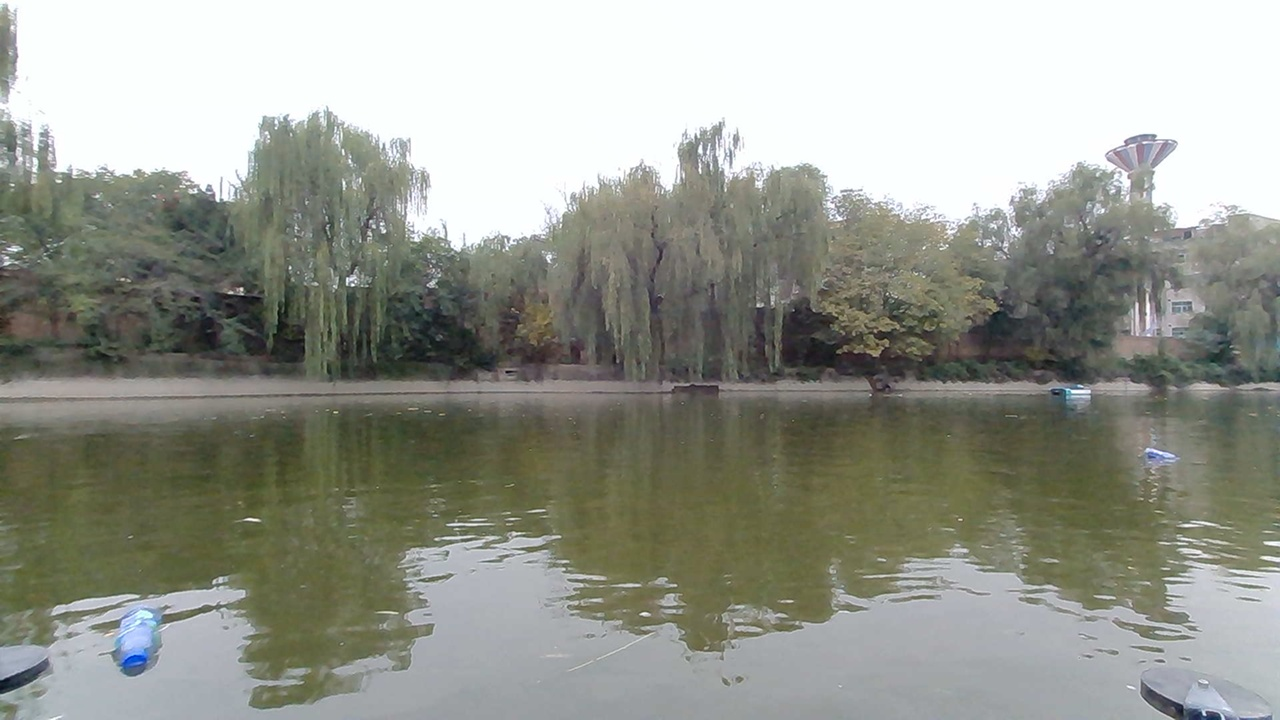bottle: (108, 604, 170, 676), (1138, 440, 1183, 474)
